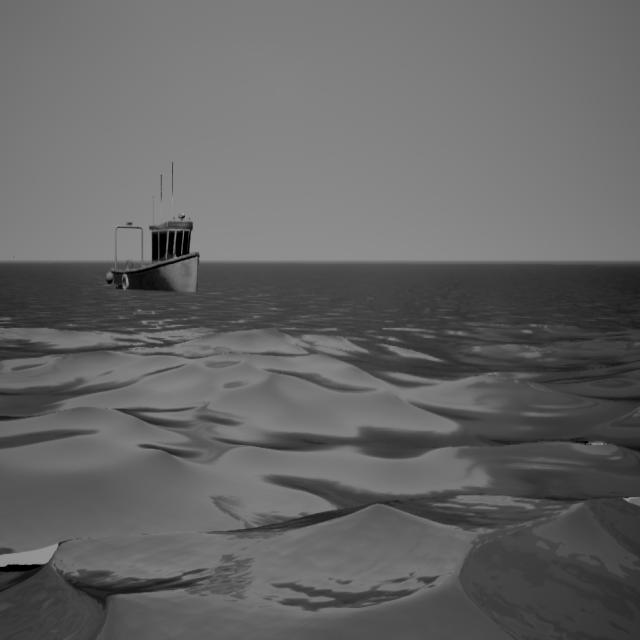ship: (98, 143, 207, 299)
